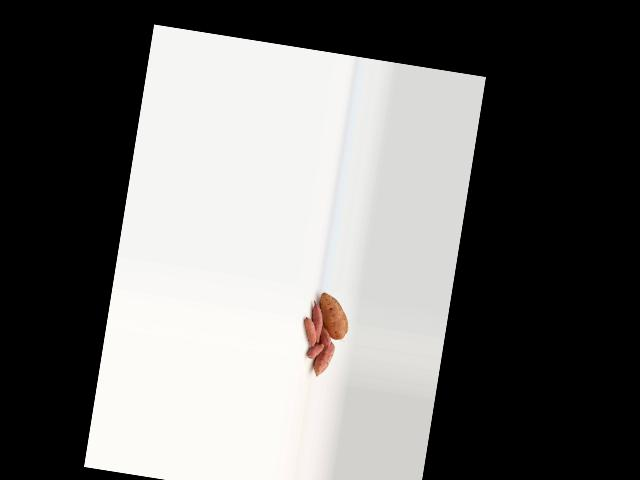sweet_potato: (311, 340, 335, 380)
